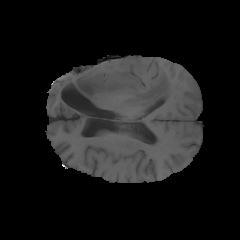glioma: (52, 68, 171, 117)
